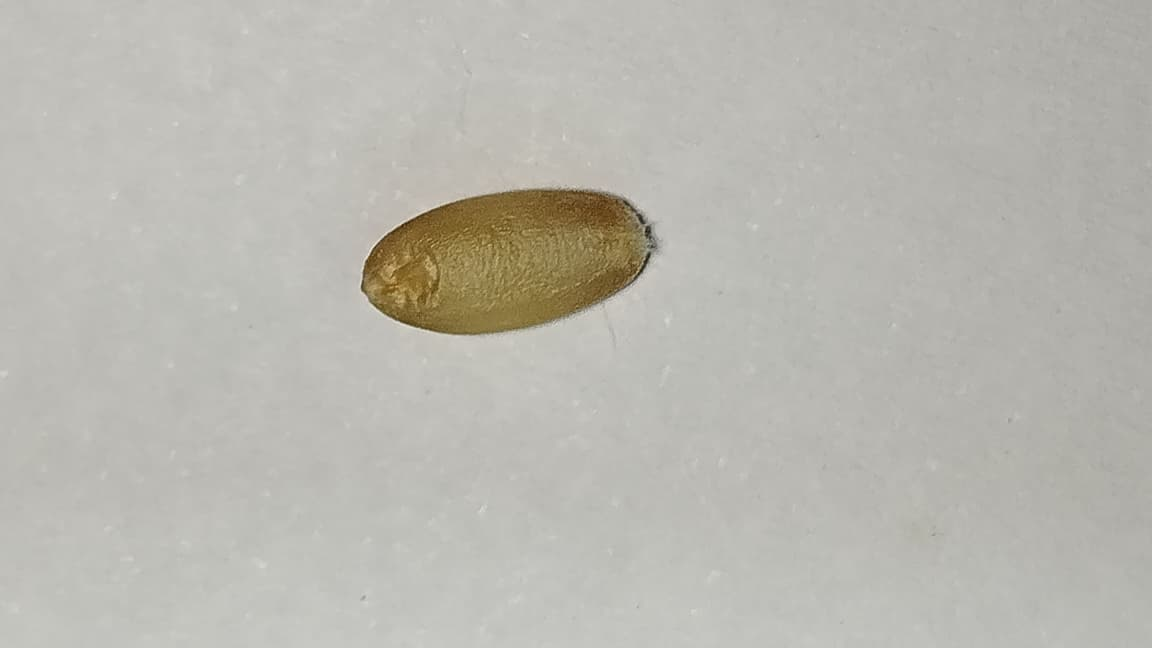healthy: (361, 188, 651, 334)
